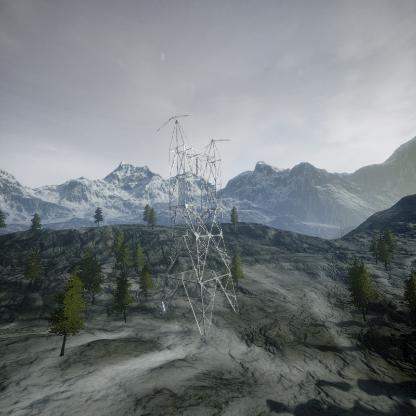tower: (154, 116, 242, 332)
